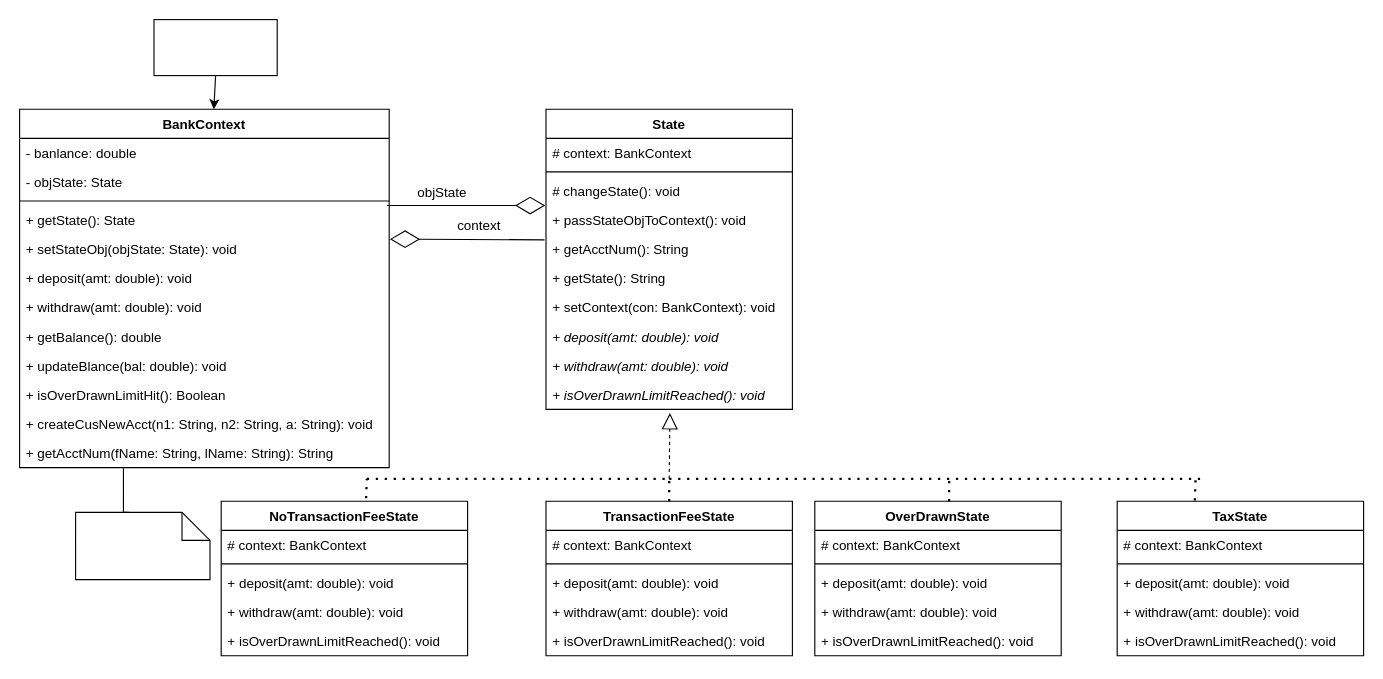
Some shapes in this 1383 by 679 pixel diagram are drawn without their labels. Each missing label, with the centre of its shape:
"BankAcc.txt" goes at point 142,545.
"ClientGUI" goes at point 215,47.
